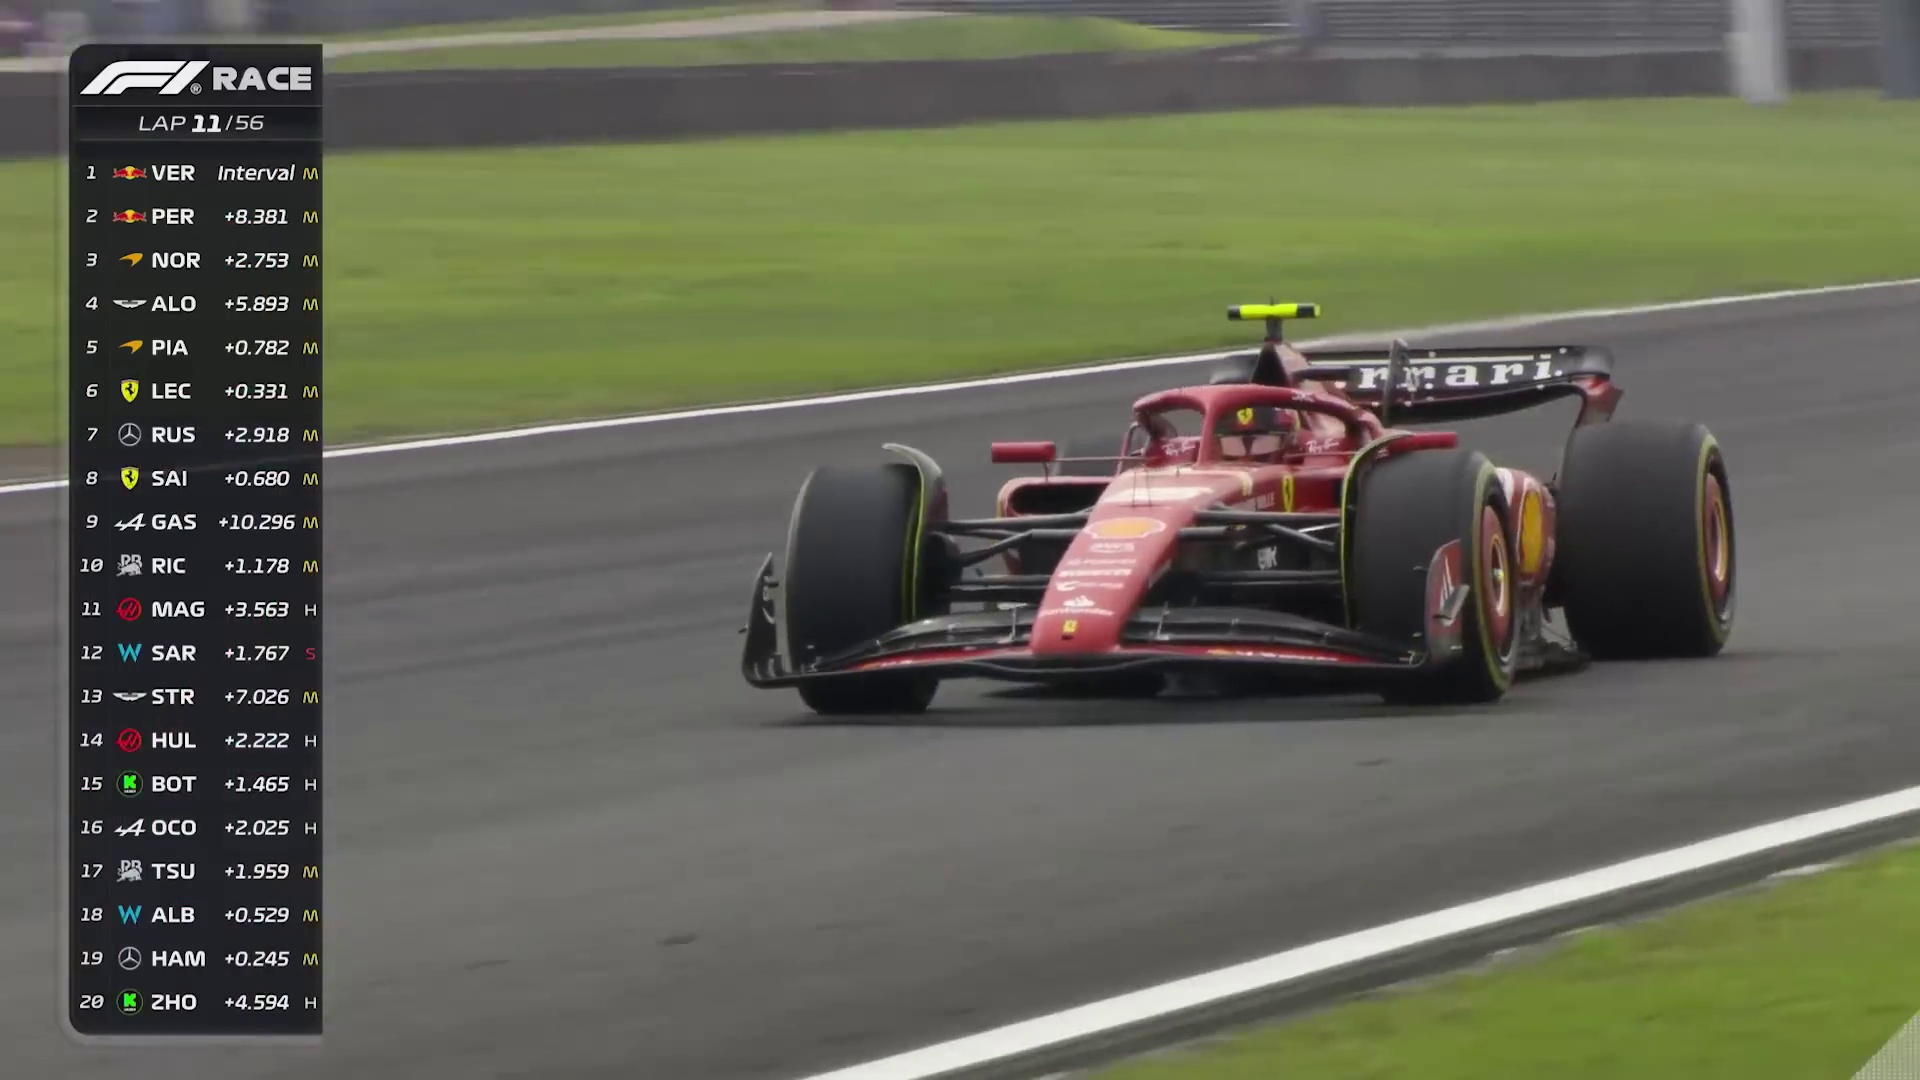Ferrari: (745, 328, 1736, 701)
